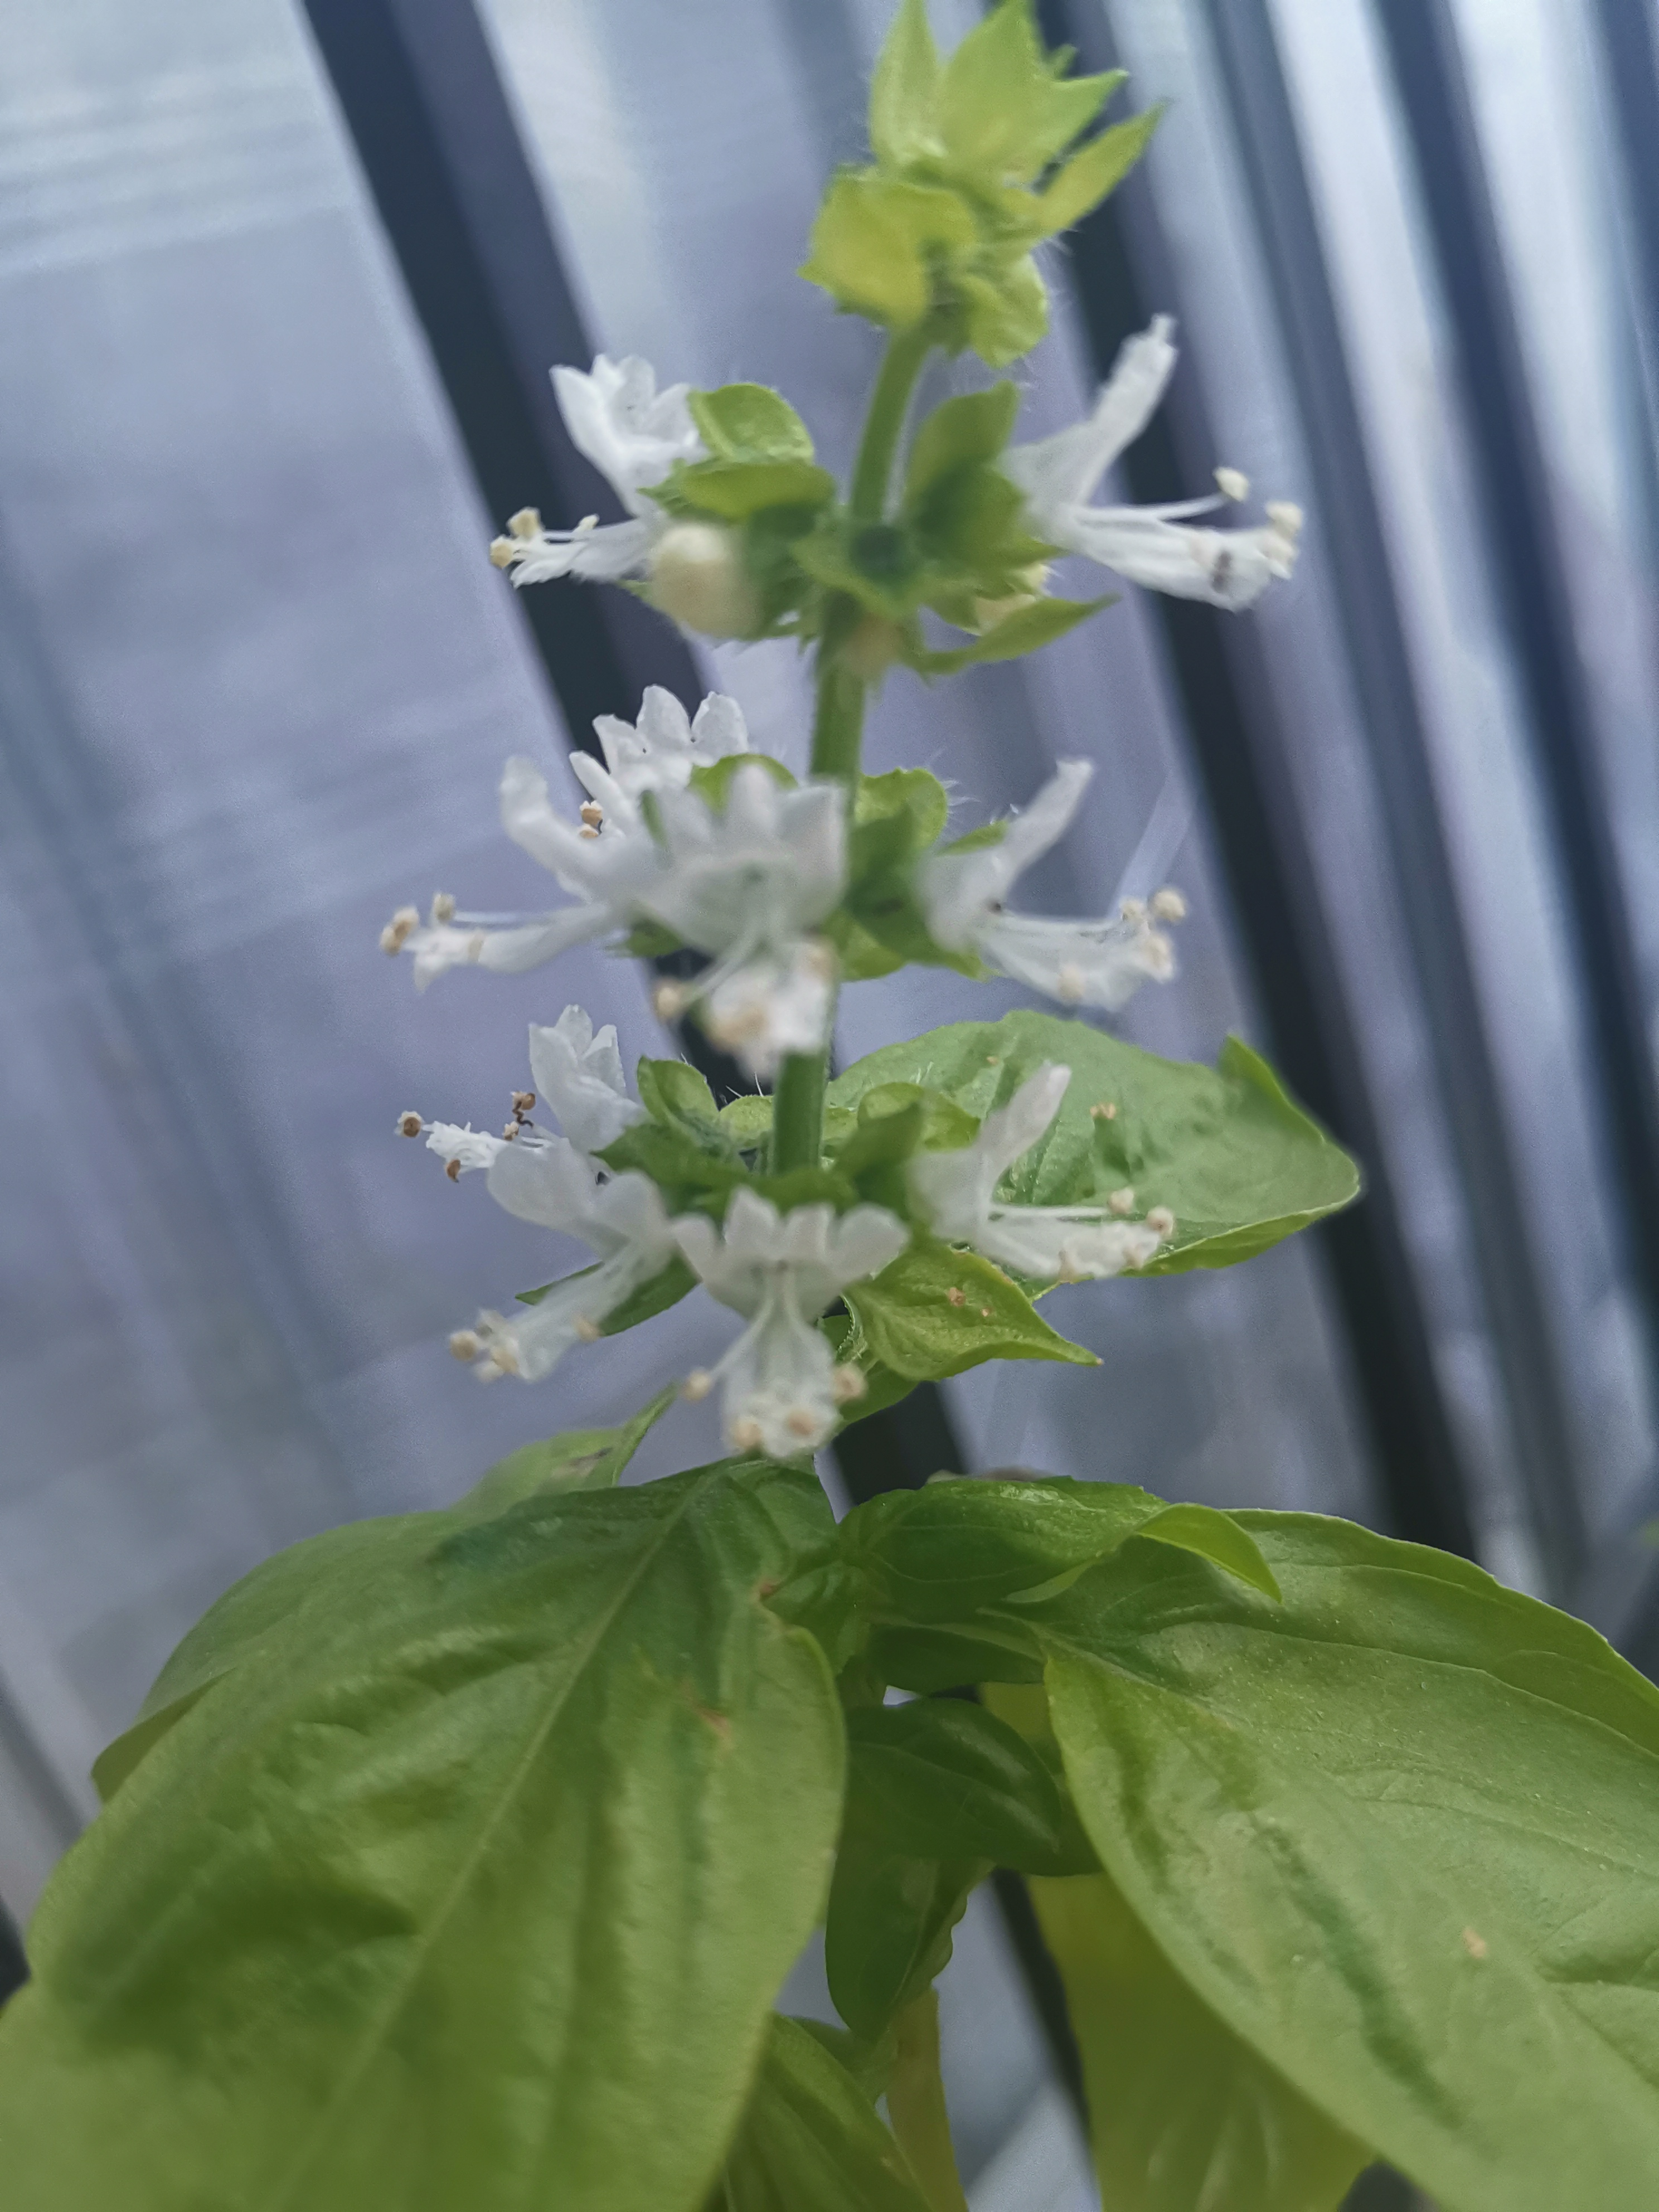Basil_healthy: (38, 1461, 843, 2193), (1039, 1479, 1659, 2212), (969, 1618, 1422, 2212), (777, 949, 1345, 1339)
